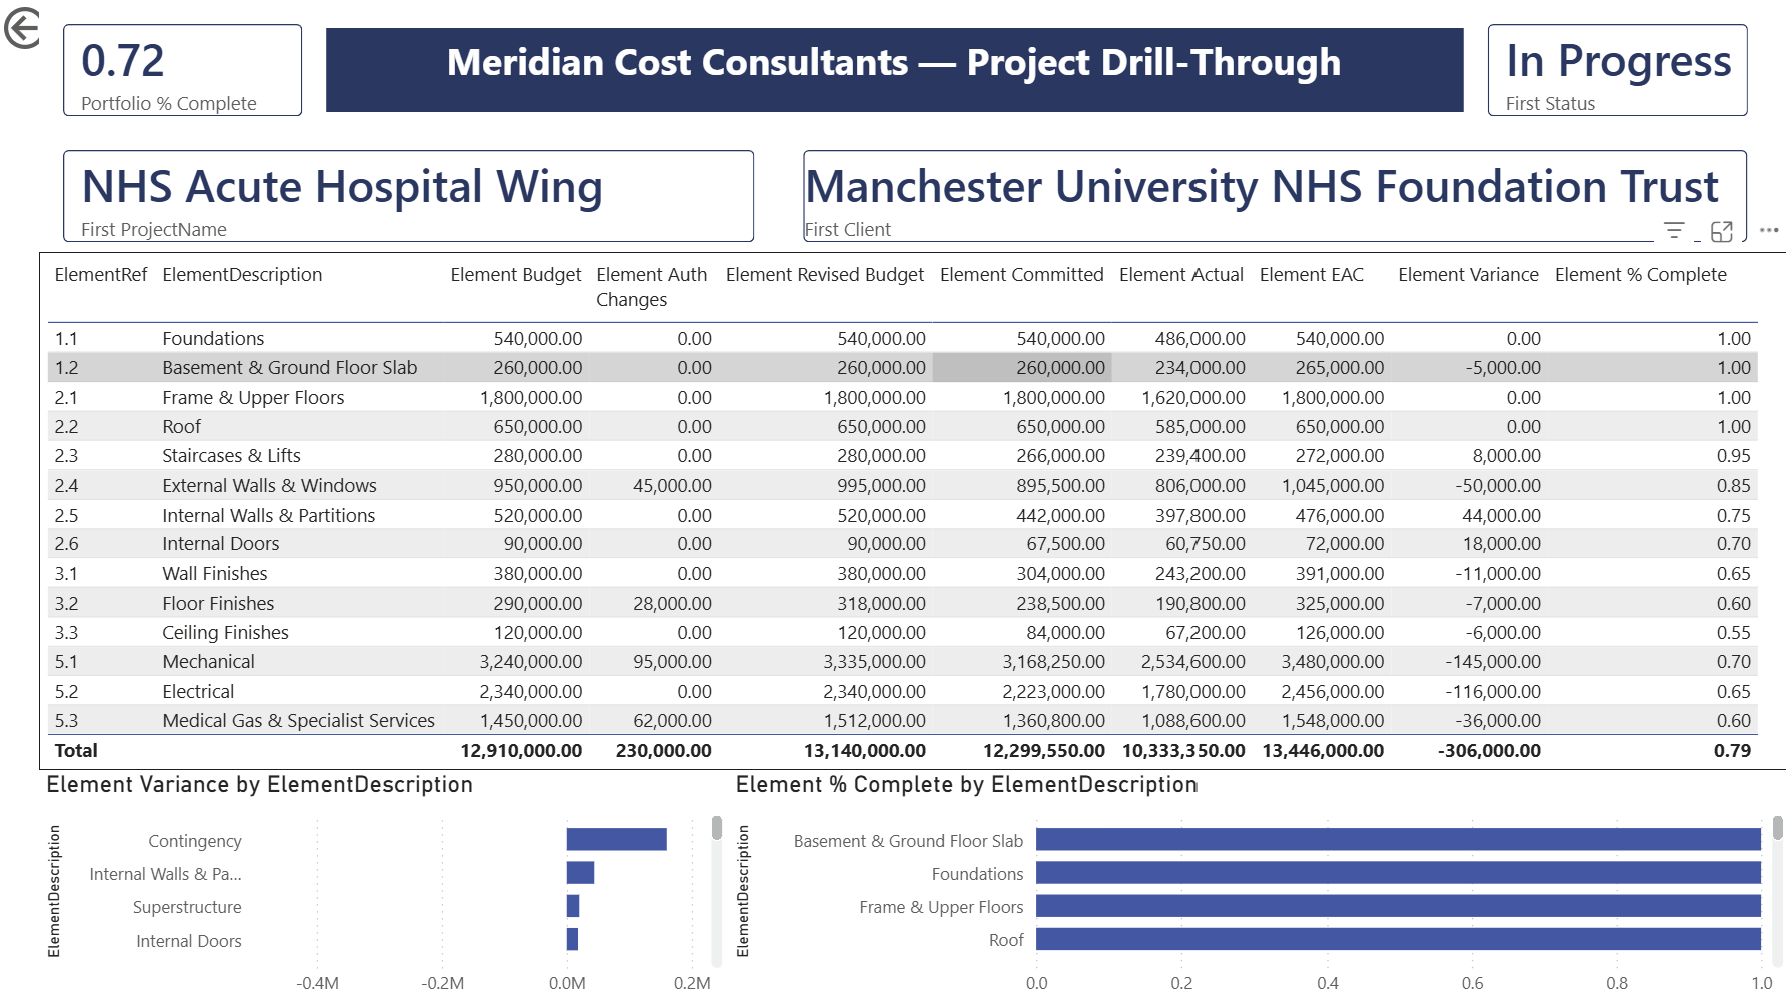

The dashboard page shown, as its layout file describes it:
{"tool":"powerbi","page":{"name":"Project Drill-Through","canvas":[1280,720],"ordinal":1},"visuals":[{"type":"actionButton","box":[0,0,100,40],"z":0},{"type":"textbox","box":[30,20,1220,60],"z":1},{"type":"cardVisual","fields":{"Data":["Min(vw_PortfolioSummary.ProjectName)"]},"box":[30,100,280,100],"z":2},{"type":"cardVisual","fields":{"Data":["Min(vw_PortfolioSummary.Client)"]},"box":[343.3,100,280,100],"z":3},{"type":"cardVisual","fields":{"Data":["Min(vw_PortfolioSummary.Status)"]},"box":[656.7,100,280,100],"z":4},{"type":"cardVisual","fields":{"Data":["_Measure.Portfolio % Complete"]},"box":[970,100,280,100],"z":5},{"type":"tableEx","fields":{"Values":["vw_ElementalDrillthrough.ElementRef","vw_ElementalDrillthrough.ElementDescription","_Measure.Element Budget","_Measure.Element Auth Changes","_Measure.Element Revised Budget","_Measure.Element Committed","_Measure.Element Actual","_Measure.Element EAC","_Measure.Element Variance","_Measure.Element % Complete","vw_ElementalDrillthrough.IsHeader"]},"box":[30.2,200.4,1249.8,340.4],"z":6},{"type":"clusteredBarChart","fields":{"Category":["vw_ElementalDrillthrough.ElementDescription"],"Y":["_Measure.Element Variance"]},"box":[30.2,549.5,493.1,170.2],"z":7},{"type":"clusteredBarChart","fields":{"Category":["vw_ElementalDrillthrough.ElementDescription"],"Y":["_Measure.Element % Complete"]},"box":[523,550,757,170],"z":8}]}

Visuals, with their boxes in screenshot pixels (x1, y1, x2, y2), scaled from the page's 1280x720 canvas onto the 1786x997 screenshot:
actionButton: 0/0/140/55
textbox: 42/28/1744/111
cardVisual - Min(vw_PortfolioSummary.ProjectName): 42/138/433/277
cardVisual - Min(vw_PortfolioSummary.Client): 479/138/870/277
cardVisual - Min(vw_PortfolioSummary.Status): 916/138/1307/277
cardVisual - _Measure.Portfolio % Complete: 1353/138/1744/277
tableEx - vw_ElementalDrillthrough.ElementRef x vw_ElementalDrillthrough.ElementDescription: 42/277/1785/749
clusteredBarChart - vw_ElementalDrillthrough.ElementDescription x _Measure.Element Variance: 42/761/730/996
clusteredBarChart - vw_ElementalDrillthrough.ElementDescription x _Measure.Element % Complete: 730/762/1785/996
